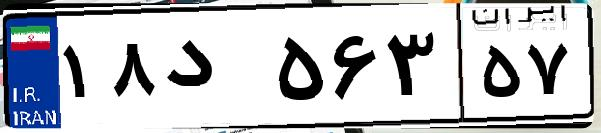1: (57, 26, 110, 100)
3: (385, 28, 445, 110)
5: (270, 28, 330, 110), (475, 38, 525, 113)
6: (330, 28, 385, 110)
7: (525, 38, 570, 115)
8: (110, 28, 158, 98)
د: (158, 20, 270, 120)
